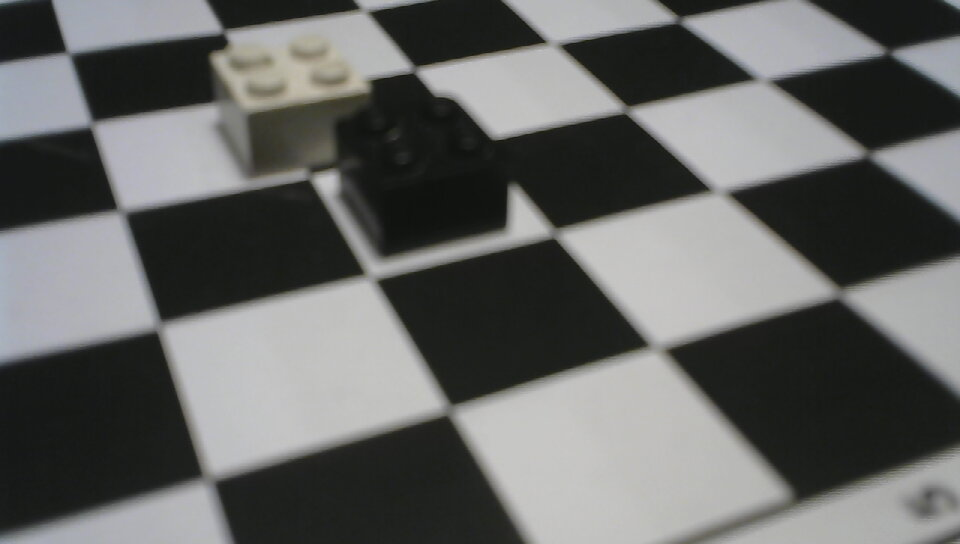bp: (330, 90, 515, 263)
